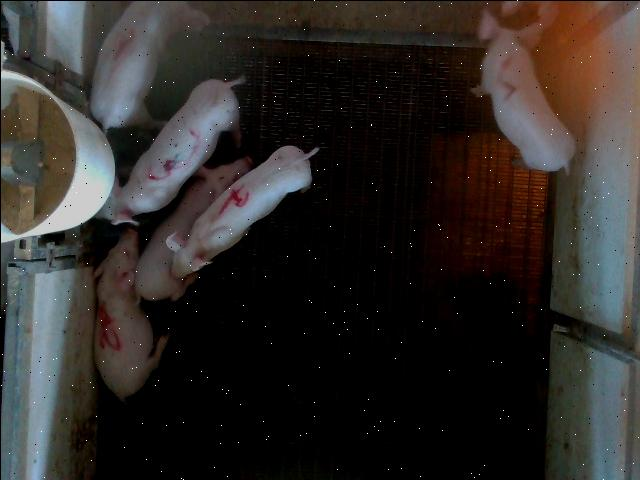pig-1: (89, 2, 169, 129)
pig-2: (474, 9, 574, 170)
pig-3: (96, 79, 238, 224)
pig-4: (166, 146, 318, 276)
pig-5: (94, 228, 169, 402)
